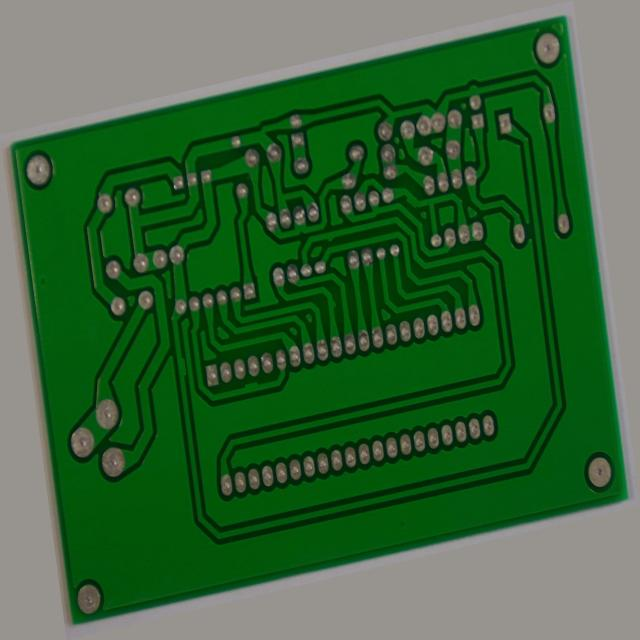spur: (156, 320, 171, 355), (427, 190, 445, 213), (225, 373, 247, 391), (334, 211, 353, 229), (329, 294, 343, 313)
